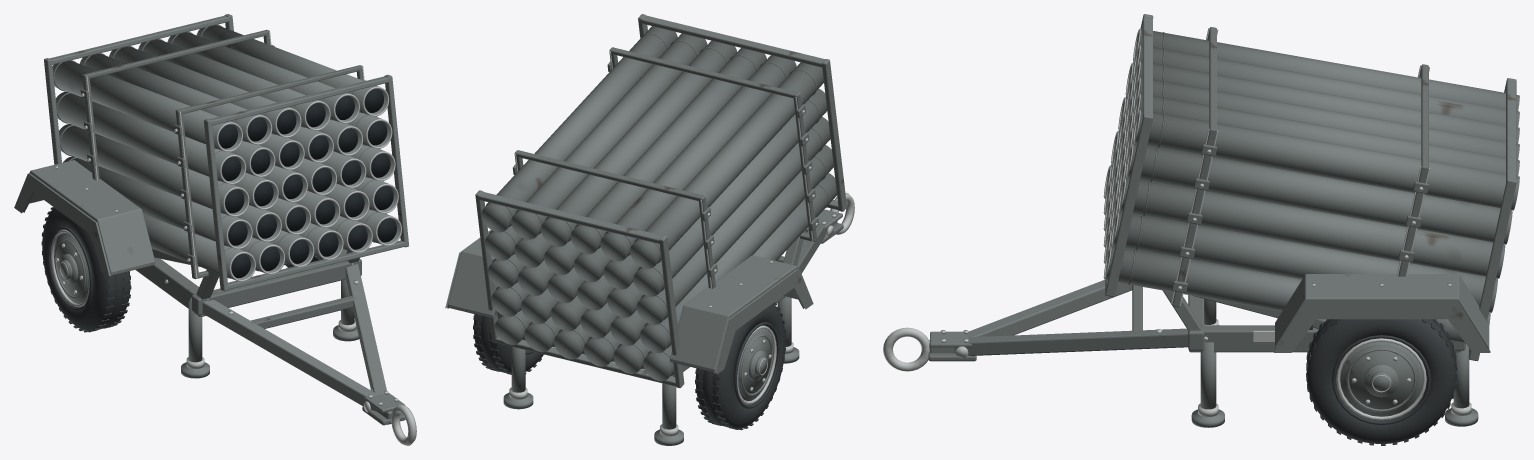
The model's file is land-mattress-visual-prop.glb.
The picture shows the model from 3 angles, left to right: view 1: azimuth 30°, elevation 25°; view 2: azimuth 150°, elevation 25°; view 3: azimuth 270°, elevation 25°; orthographic projection. The views are drawn at different scales.
Parts seen in each view (by area): view 1: LM_Tube_Bundle_Exterior-LM_paint.009-batch, LM_Tube_Bundle_Exterior-LM_dark.009-batch, LM_Rack_Frame_Exterior-LM_paint.009-batch, LM_Fenders-LM_paint.009-batch, LM_Drawbar_Tow_Eye-LM_paint.009-batch, LM_Tube_Bundle_Exterior-LM_steel.009-batch, LM_Wheel_Left_Pivot-LM_rubber.009-batch, LM_Rack_Frame_Exterior-LM_fitting.009-batch, LM_Carriage_Exterior-LM_fitting.009-batch, LM_Drawbar_Tow_Eye-LM_fitting.009-batch, LM_Display_Supports-LM_fitting.009-batch, LM_Wheel_Left_Pivot-LM_wheel.009-batch (+7 smaller); view 2: LM_Tube_Bundle_Exterior-LM_paint.009-batch, LM_Fenders-LM_paint.009-batch, LM_Rack_Frame_Exterior-LM_paint.009-batch, LM_Wheel_Left_Pivot-LM_rubber.009-batch, LM_Rack_Frame_Exterior-LM_fitting.009-batch, LM_Display_Supports-LM_fitting.009-batch, LM_Wheel_Right_Pivot-LM_rubber.009-batch, LM_Tube_Bundle_Exterior-LM_fitting.009-batch, LM_Wheel_Left_Pivot-LM_fitting.009-batch, LM_Wheel_Left_Pivot-LM_wheel.009-batch, LM_Drawbar_Tow_Eye-LM_paint.009-batch, LM_Display_Supports-LM_paint.009-batch (+3 smaller); view 3: LM_Tube_Bundle_Exterior-LM_paint.009-batch, LM_Wheel_Right_Pivot-LM_rubber.009-batch, LM_Fenders-LM_paint.009-batch, LM_Drawbar_Tow_Eye-LM_paint.009-batch, LM_Rack_Frame_Exterior-LM_paint.009-batch, LM_Rack_Frame_Exterior-LM_fitting.009-batch, LM_Tube_Bundle_Exterior-LM_steel.009-batch, LM_Wheel_Right_Pivot-LM_fitting.009-batch, LM_Carriage_Exterior-LM_fitting.009-batch, LM_Wheel_Right_Pivot-LM_wheel.009-batch, LM_Display_Supports-LM_fitting.009-batch, LM_Wheel_Right_Pivot-LM_steel.009-batch (+6 smaller).
Boxes of the visible parts, x1=… form: LM_Tube_Bundle_Exterior-LM_paint.009-batch: x1=52, y1=25, x2=400, y2=279; LM_Tube_Bundle_Exterior-LM_dark.009-batch: x1=218, y1=89, x2=396, y2=278; LM_Rack_Frame_Exterior-LM_paint.009-batch: x1=44, y1=14, x2=408, y2=299; LM_Fenders-LM_paint.009-batch: x1=14, y1=160, x2=155, y2=277; LM_Drawbar_Tow_Eye-LM_paint.009-batch: x1=202, y1=264, x2=405, y2=424; LM_Tube_Bundle_Exterior-LM_steel.009-batch: x1=216, y1=86, x2=401, y2=281; LM_Wheel_Left_Pivot-LM_rubber.009-batch: x1=41, y1=207, x2=131, y2=332; LM_Rack_Frame_Exterior-LM_fitting.009-batch: x1=82, y1=29, x2=363, y2=279; LM_Carriage_Exterior-LM_fitting.009-batch: x1=135, y1=249, x2=361, y2=316; LM_Drawbar_Tow_Eye-LM_fitting.009-batch: x1=250, y1=296, x2=405, y2=425; LM_Display_Supports-LM_fitting.009-batch: x1=188, y1=279, x2=354, y2=362; LM_Wheel_Left_Pivot-LM_wheel.009-batch: x1=54, y1=233, x2=88, y2=303; LM_Tube_Bundle_Exterior-LM_paint.009-batch: x1=481, y1=26, x2=836, y2=381; LM_Fenders-LM_paint.009-batch: x1=445, y1=230, x2=813, y2=374; LM_Rack_Frame_Exterior-LM_paint.009-batch: x1=475, y1=14, x2=846, y2=388; LM_Wheel_Left_Pivot-LM_rubber.009-batch: x1=695, y1=302, x2=786, y2=430; LM_Rack_Frame_Exterior-LM_fitting.009-batch: x1=514, y1=47, x2=816, y2=288; LM_Display_Supports-LM_fitting.009-batch: x1=511, y1=296, x2=791, y2=429; LM_Wheel_Right_Pivot-LM_rubber.009-batch: x1=473, y1=312, x2=543, y2=374; LM_Tube_Bundle_Exterior-LM_fitting.009-batch: x1=486, y1=33, x2=829, y2=376; LM_Wheel_Left_Pivot-LM_fitting.009-batch: x1=739, y1=332, x2=773, y2=398; LM_Wheel_Left_Pivot-LM_wheel.009-batch: x1=738, y1=329, x2=773, y2=401; LM_Drawbar_Tow_Eye-LM_paint.009-batch: x1=797, y1=209, x2=842, y2=273; LM_Display_Supports-LM_paint.009-batch: x1=503, y1=347, x2=799, y2=445; LM_Tube_Bundle_Exterior-LM_paint.009-batch: x1=1105, y1=28, x2=1519, y2=343; LM_Wheel_Right_Pivot-LM_rubber.009-batch: x1=1306, y1=319, x2=1456, y2=445; LM_Fenders-LM_paint.009-batch: x1=1274, y1=274, x2=1490, y2=352; LM_Drawbar_Tow_Eye-LM_paint.009-batch: x1=929, y1=280, x2=1188, y2=355; LM_Rack_Frame_Exterior-LM_paint.009-batch: x1=1105, y1=14, x2=1516, y2=361; LM_Rack_Frame_Exterior-LM_fitting.009-batch: x1=1172, y1=27, x2=1428, y2=328; LM_Tube_Bundle_Exterior-LM_steel.009-batch: x1=1103, y1=29, x2=1140, y2=279; LM_Wheel_Right_Pivot-LM_fitting.009-batch: x1=1343, y1=345, x2=1419, y2=413; LM_Carriage_Exterior-LM_fitting.009-batch: x1=1188, y1=295, x2=1465, y2=352; LM_Wheel_Right_Pivot-LM_wheel.009-batch: x1=1340, y1=341, x2=1422, y2=416; LM_Display_Supports-LM_fitting.009-batch: x1=1200, y1=299, x2=1469, y2=409; LM_Wheel_Right_Pivot-LM_steel.009-batch: x1=1336, y1=338, x2=1426, y2=420.
Size of the model in its own units: 2.63 by 2.6 by 4.78.
6 materials, 3 textured.
